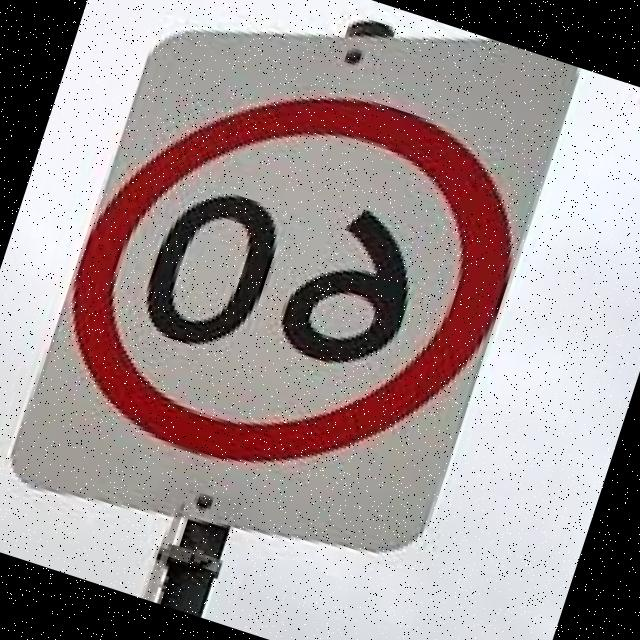speed_limit_60: (0, 0, 553, 541)
